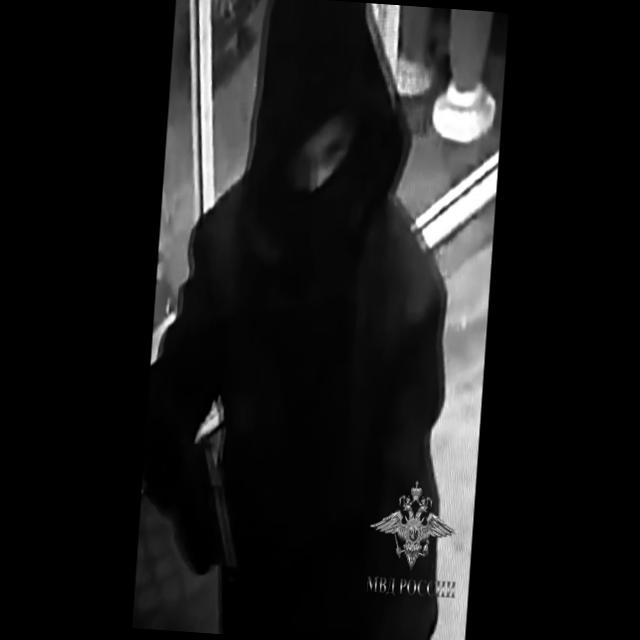gun: (176, 434, 248, 596)
person with a gun: (133, 0, 469, 640)
